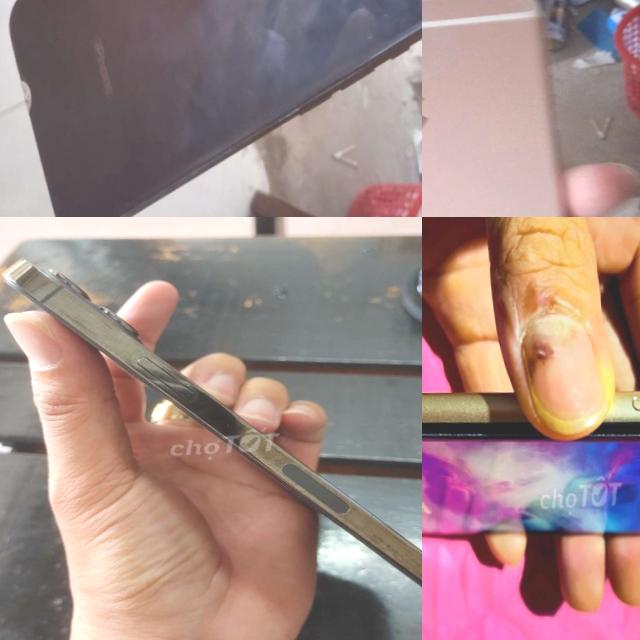gen_12_13: (8, 226, 422, 640)
gen_6: (422, 0, 567, 217)
gen_7_8: (422, 357, 640, 584)
gen_x_xs: (10, 0, 422, 217)
